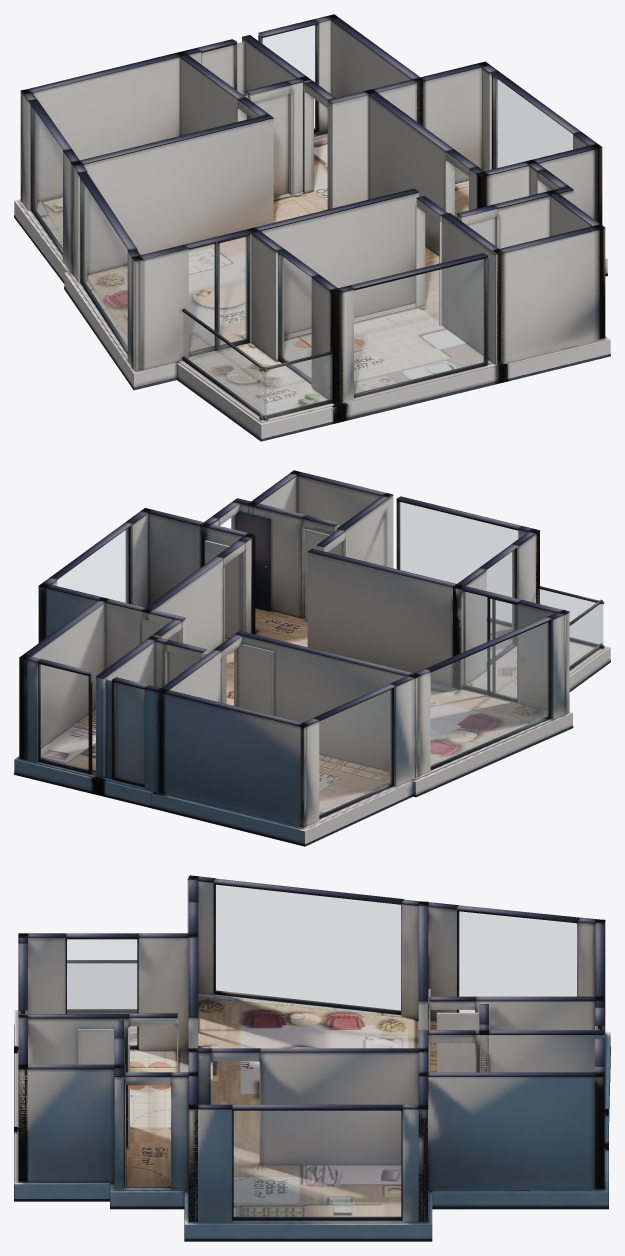
The picture shows the model from 3 angles, top to bottom: view 1: azimuth 30°, elevation 25°; view 2: azimuth 150°, elevation 25°; view 3: azimuth 270°, elevation 25°; orthographic projection. The views are drawn at different scales.
Parts seen in each view (by area): view 1: plan, glass6_m, glass2_m, glass1_m, glass5_m, railg1_m, railg0_m, glass7_m, glass0_m, glass3_m; view 2: plan, glass1_m, glass6_m, glass0_m, glass3_m, glass2_m, glass5_m, glass4_m, railg0_m, glass7_m, railg1_m; view 3: plan, glass1_m, glass5_m, glass0_m, glass7_m, railg1_m.
Boxes of the visible parts, bbox=[...] form: plan: bbox=[14, 14, 610, 441]; glass6_m: bbox=[354, 259, 484, 394]; glass2_m: bbox=[189, 237, 246, 352]; glass1_m: bbox=[82, 181, 127, 347]; glass5_m: bbox=[494, 77, 572, 168]; railg1_m: bbox=[183, 312, 266, 417]; railg0_m: bbox=[260, 354, 332, 416]; glass7_m: bbox=[280, 255, 311, 379]; glass0_m: bbox=[33, 109, 62, 250]; glass3_m: bbox=[263, 25, 315, 128]; plan: bbox=[14, 470, 610, 846]; glass1_m: bbox=[431, 622, 548, 766]; glass6_m: bbox=[400, 502, 517, 596]; glass0_m: bbox=[319, 690, 391, 815]; glass3_m: bbox=[40, 664, 88, 770]; glass2_m: bbox=[463, 591, 516, 698]; glass5_m: bbox=[57, 528, 128, 603]; glass4_m: bbox=[115, 683, 143, 783]; railg0_m: bbox=[538, 589, 603, 645]; glass7_m: bbox=[487, 550, 514, 639]; railg1_m: bbox=[570, 604, 601, 666]; plan: bbox=[14, 875, 610, 1241]; glass1_m: bbox=[215, 885, 400, 1010]; glass5_m: bbox=[234, 1111, 400, 1216]; glass0_m: bbox=[459, 911, 576, 1012]; glass7_m: bbox=[67, 939, 136, 1045]; railg1_m: bbox=[67, 964, 136, 1008].
Bounding box in the file's own units: 10.14 × 2.62 × 10.82.
2 materials, 1 textured.
